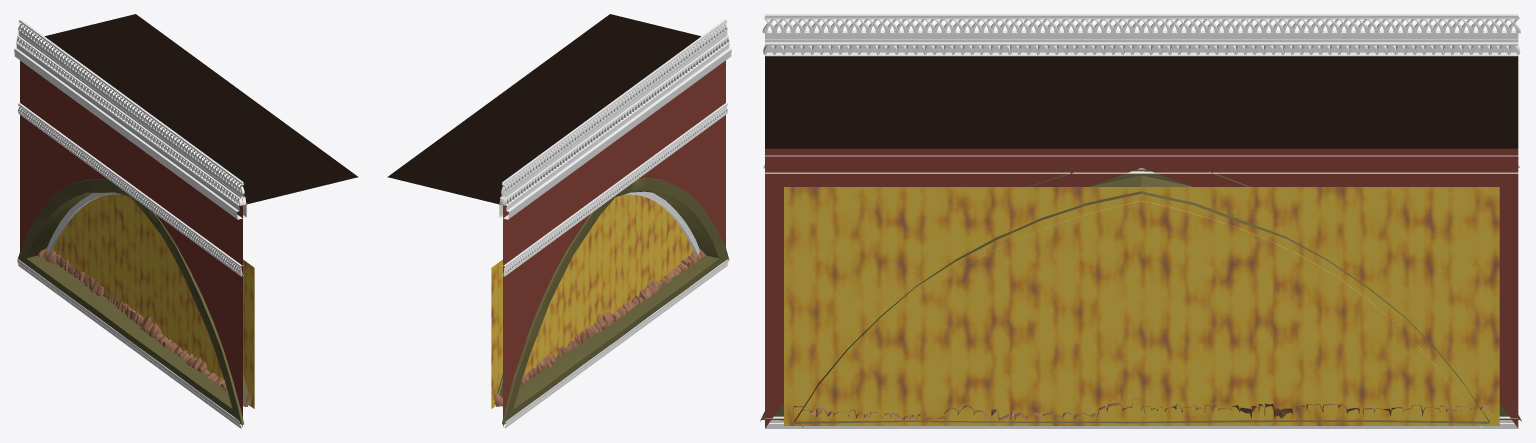
Rendered from Geonosis_Gallery01_Tall20mWindow.fbx.
3 renders of one model, left to right at view 1: azimuth 30°, elevation 25°; view 2: azimuth 150°, elevation 25°; view 3: azimuth 270°, elevation 25°, orthographic. The views are drawn at different scales.
Parts seen in each view (by area): view 1: Geonosis_Gallery01_Tall20mWindow; view 2: Geonosis_Gallery01_Tall20mWindow; view 3: Geonosis_Gallery01_Tall20mWindow.
Part boxes in pixels (x1,y1,x2,y2): Geonosis_Gallery01_Tall20mWindow: (14, 14, 358, 428); Geonosis_Gallery01_Tall20mWindow: (387, 14, 731, 428); Geonosis_Gallery01_Tall20mWindow: (760, 14, 1521, 428).
Bounding box in the file's own units: 630 × 1218 × 2021.
